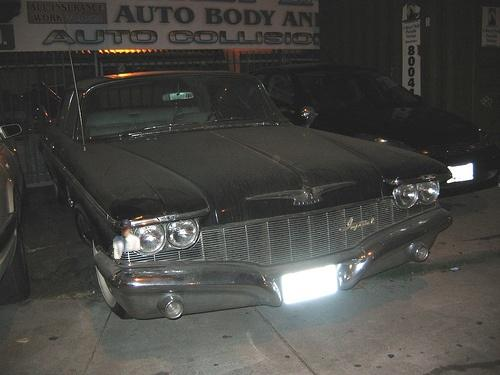tampered: (114, 220, 140, 259)
